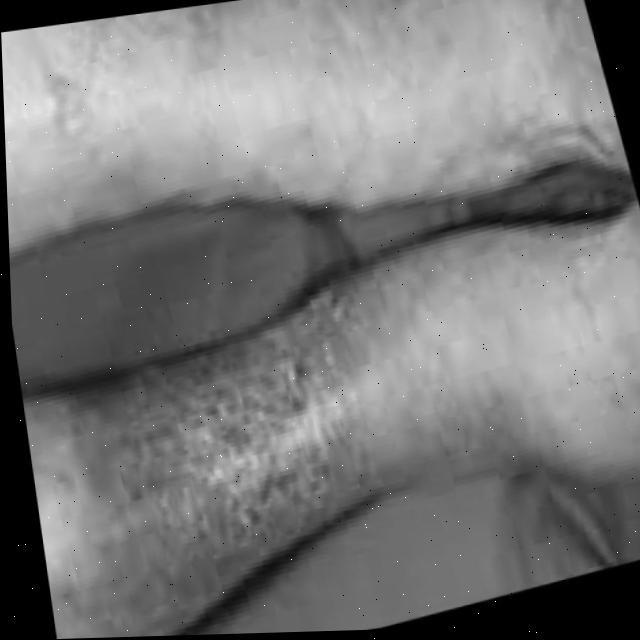Eczema: (138, 306, 414, 539)
